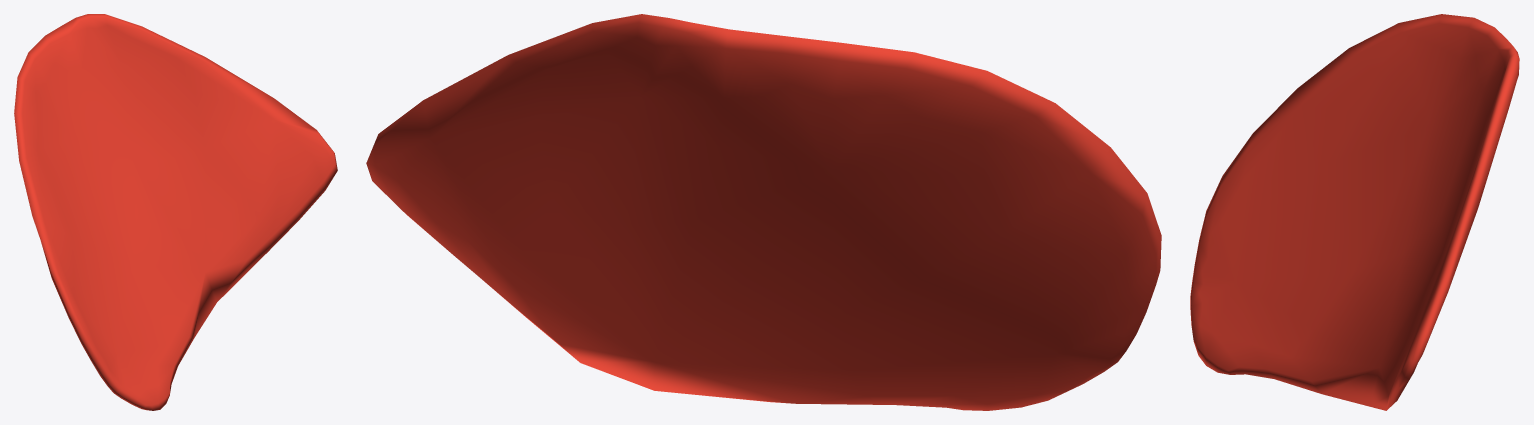
File: Biceps_femoris_long_head_ischiatic_insertion_right.glb
3 views of the same model, side by side, from view 1: azimuth 30°, elevation 25°; view 2: azimuth 150°, elevation 25°; view 3: azimuth 270°, elevation 25° (orthographic). The views are drawn at different scales.
Visible parts, largest first — view 1: Long_head_of_biceps_femoris_muscle-Ischiatic_insertion.r_Gen; view 2: Long_head_of_biceps_femoris_muscle-Ischiatic_insertion.r_Gen; view 3: Long_head_of_biceps_femoris_muscle-Ischiatic_insertion.r_Gen.
Part boxes in pixels (bbox=[...]): Long_head_of_biceps_femoris_muscle-Ischiatic_insertion.r_Gen: bbox=[14, 14, 337, 410]; Long_head_of_biceps_femoris_muscle-Ischiatic_insertion.r_Gen: bbox=[366, 14, 1161, 410]; Long_head_of_biceps_femoris_muscle-Ischiatic_insertion.r_Gen: bbox=[1190, 14, 1519, 410].
Bounding box in the file's own units: 0.0159 × 0.0125 × 0.0108.
